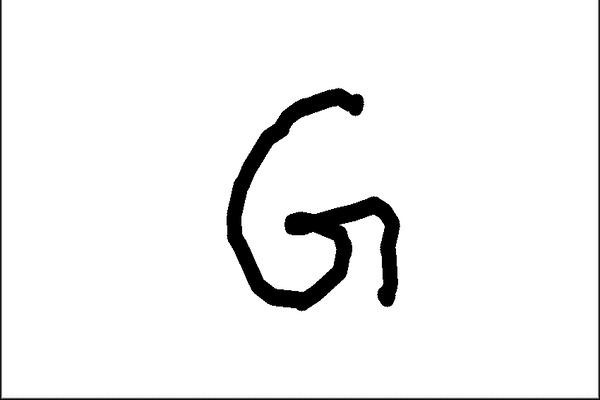G: (220, 85, 407, 315)
